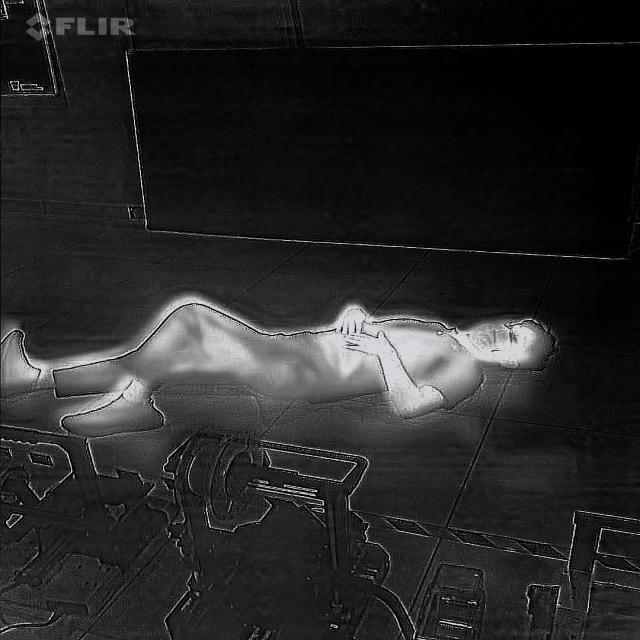Victim: (0, 292, 562, 435)
